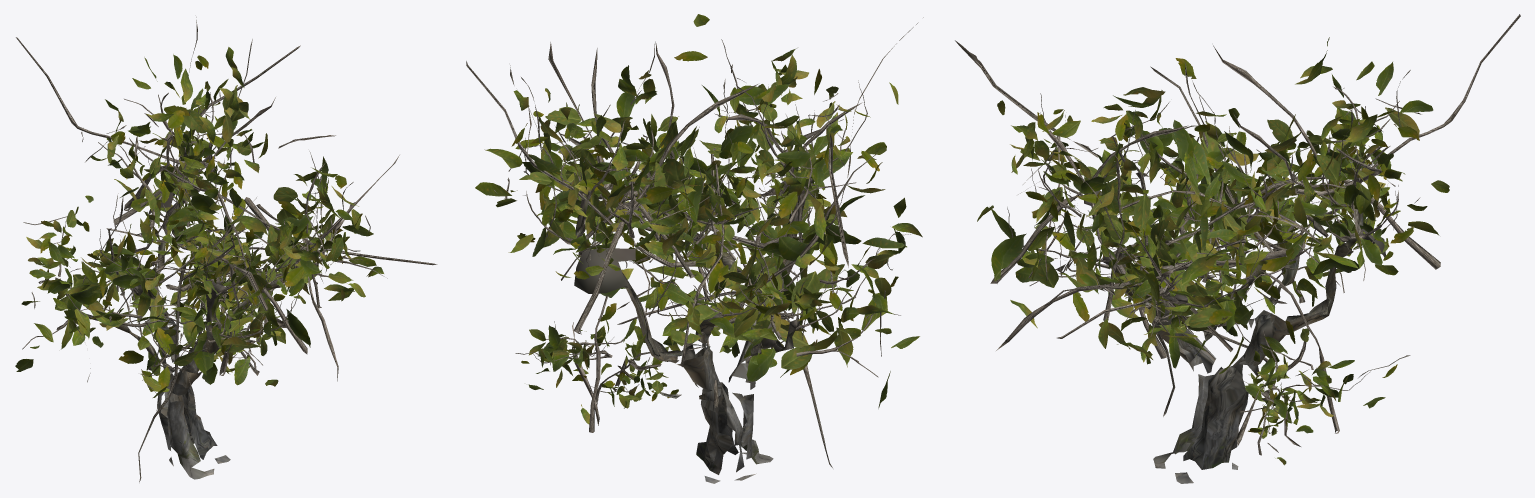
The model's file is island-tree-01.glb.
3 renders of one model, left to right at view 1: azimuth 30°, elevation 25°; view 2: azimuth 150°, elevation 25°; view 3: azimuth 270°, elevation 25°, orthographic. The views are drawn at different scales.
Parts seen in each view (by area): view 1: island_tree_01_LOD0; view 2: island_tree_01_LOD0; view 3: island_tree_01_LOD0.
Part boxes in pixels (box(x1,y1,x2,y2)): island_tree_01_LOD0: box(15, 17, 437, 482); island_tree_01_LOD0: box(466, 14, 923, 483); island_tree_01_LOD0: box(955, 14, 1520, 483).
Size of the model in its own units: 4.92 by 4.97 by 5.66.
3 materials, 3 textured.
